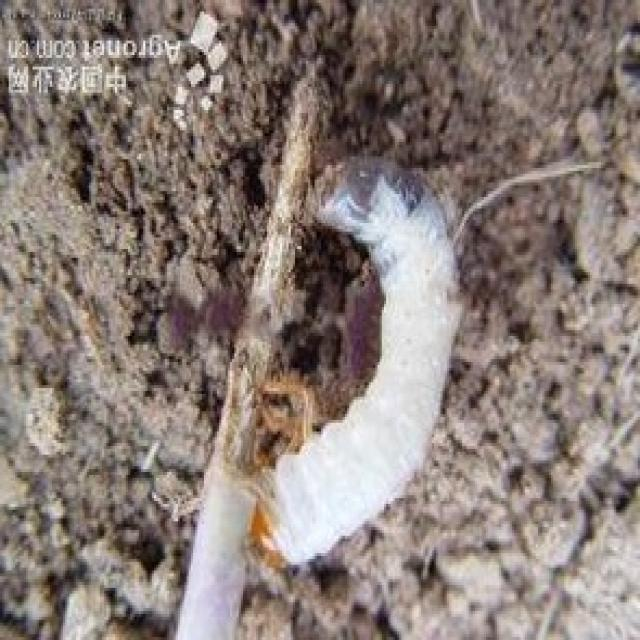grub: (248, 152, 461, 580)
